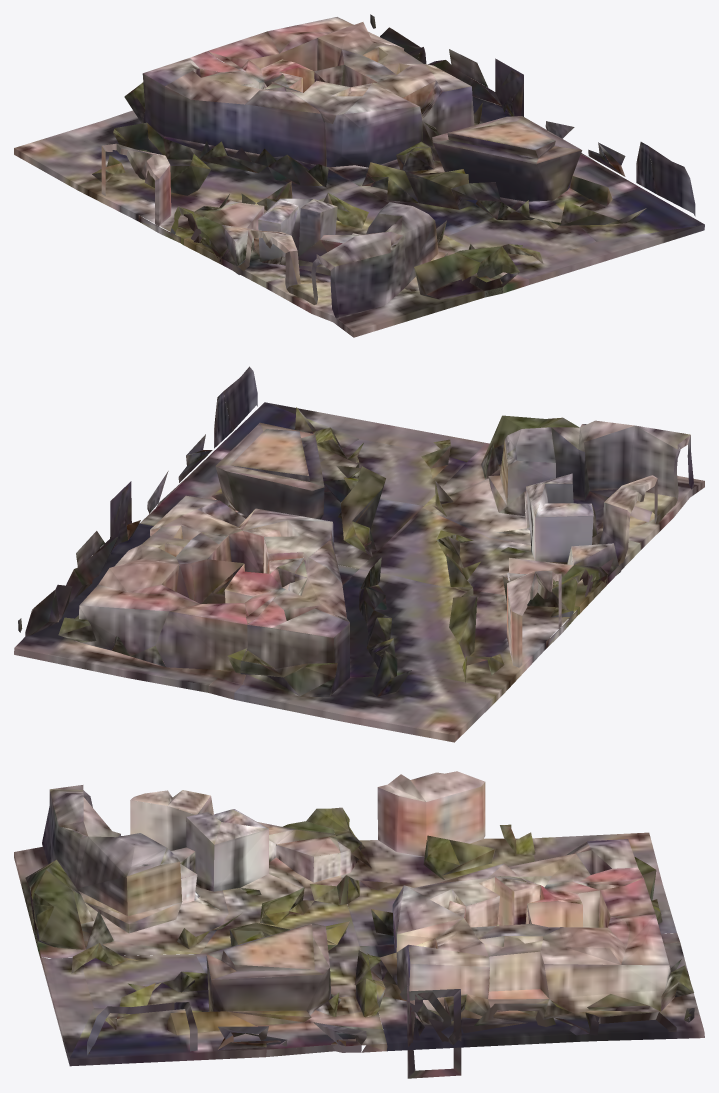
3 views of the same model, one above another, from view 1: azimuth 30°, elevation 25°; view 2: azimuth 150°, elevation 25°; view 3: azimuth 270°, elevation 25° (orthographic). The views are drawn at different scales.
Visible parts, largest first — view 1: Mesh_0; view 2: Mesh_0; view 3: Mesh_0.
Boxes of the visible parts, box(x1,y1,x2,y2) form: Mesh_0: box(14, 14, 704, 337); Mesh_0: box(14, 366, 704, 742); Mesh_0: box(14, 771, 704, 1078).
Bounding box in the file's own units: 266 × 58.26 × 330.
2 materials, 2 textured.
